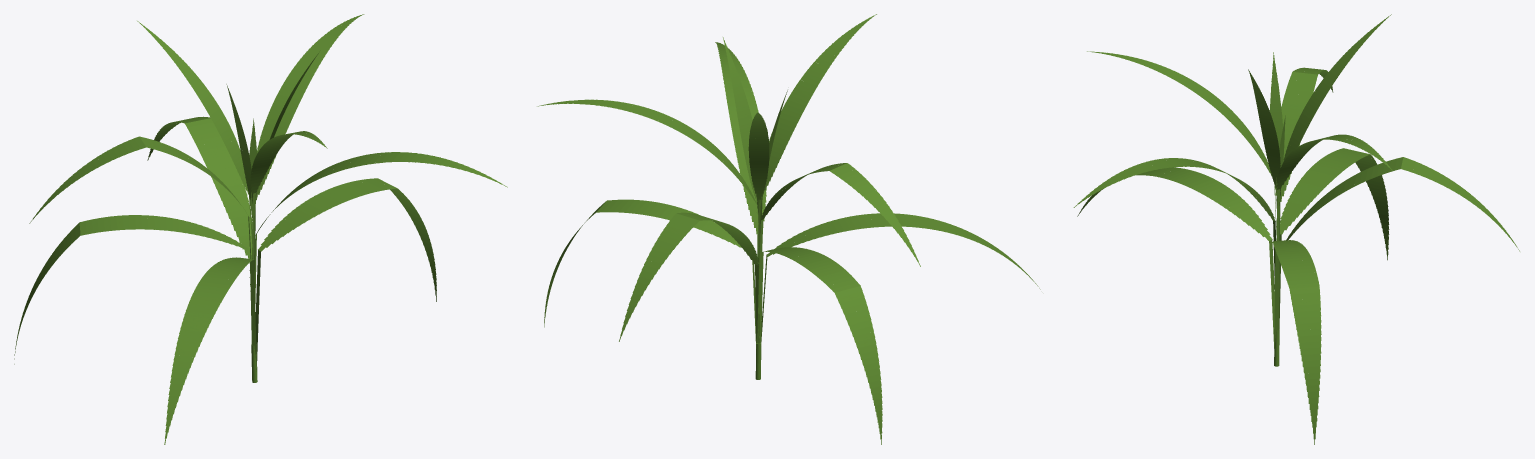
Rendered from maize_005_day_080.dae.
3 views of the same model, side by side, from view 1: azimuth 30°, elevation 25°; view 2: azimuth 150°, elevation 25°; view 3: azimuth 270°, elevation 25° (orthographic). The views are drawn at different scales.
Parts seen in each view (by area): view 1: node; view 2: node; view 3: node.
Boxes of the visible parts, x1=… form: node: x1=14, y1=14, x2=507, y2=444; node: x1=537, y1=14, x2=1040, y2=444; node: x1=1073, y1=14, x2=1519, y2=444.
Size of the model in its own units: 1.09 by 0.8734 by 1.09.
Materials: 1 (1 with a texture image).
